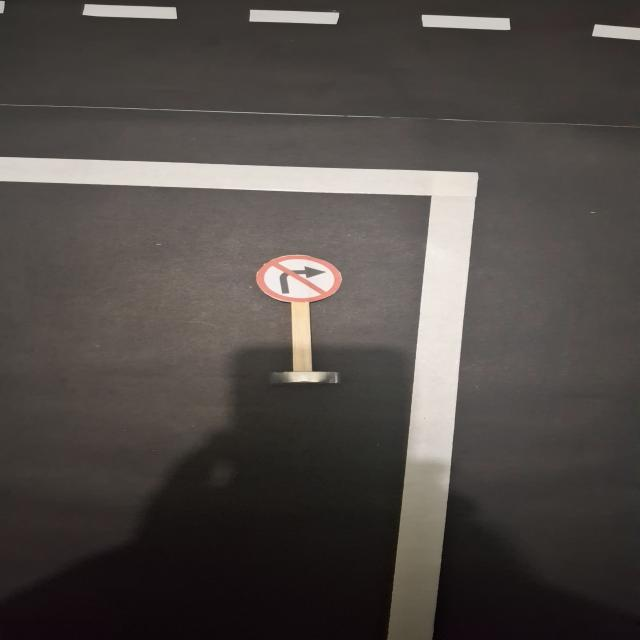Dilarang Belok Kanan: (257, 254, 343, 302)
